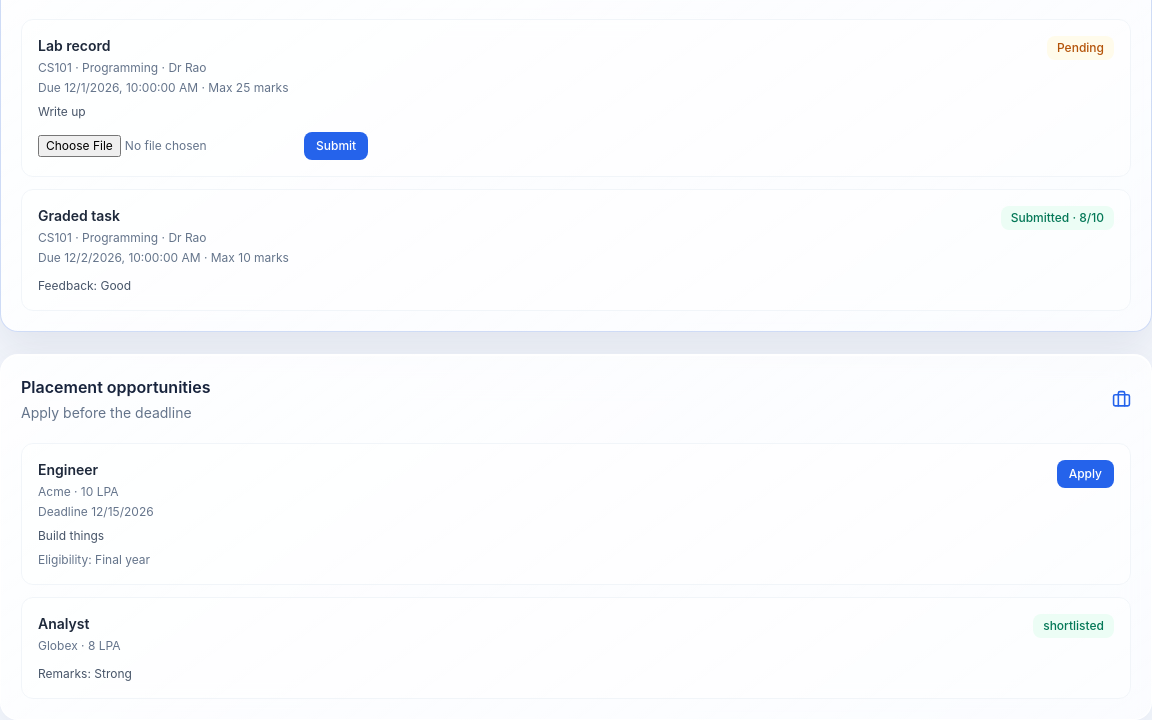
Test case: StudentPortal › shows an error when application fails
The image size is (1152, 720).
(page scrolled)
Expected: the text "Engineer" is shown, [38, 461, 98, 478]
Click the button "Apply". click: x=1085, y=474
box: [1057, 460, 1114, 488]
(page scrolled)
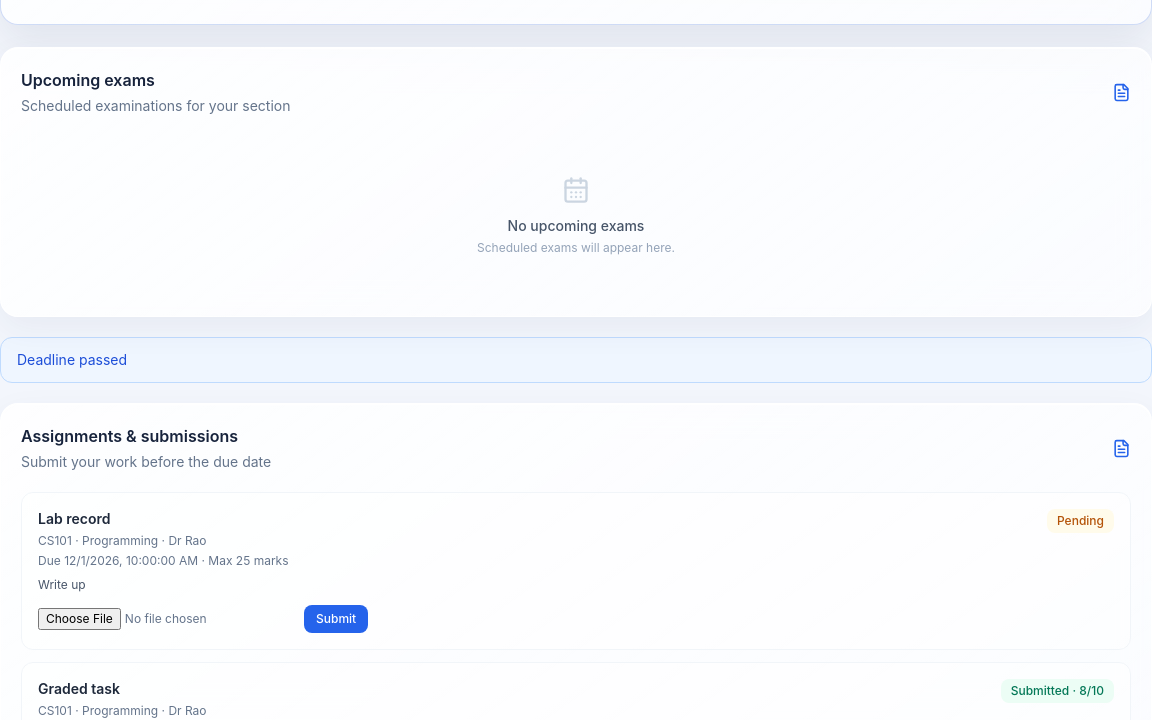
Now the text "Deadline passed" is shown, box [0, 337, 1151, 383]
